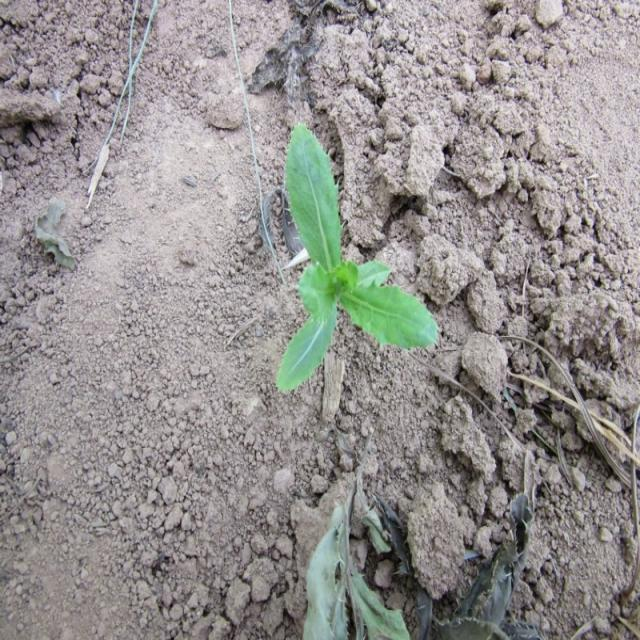cs: (270, 119, 444, 401)
